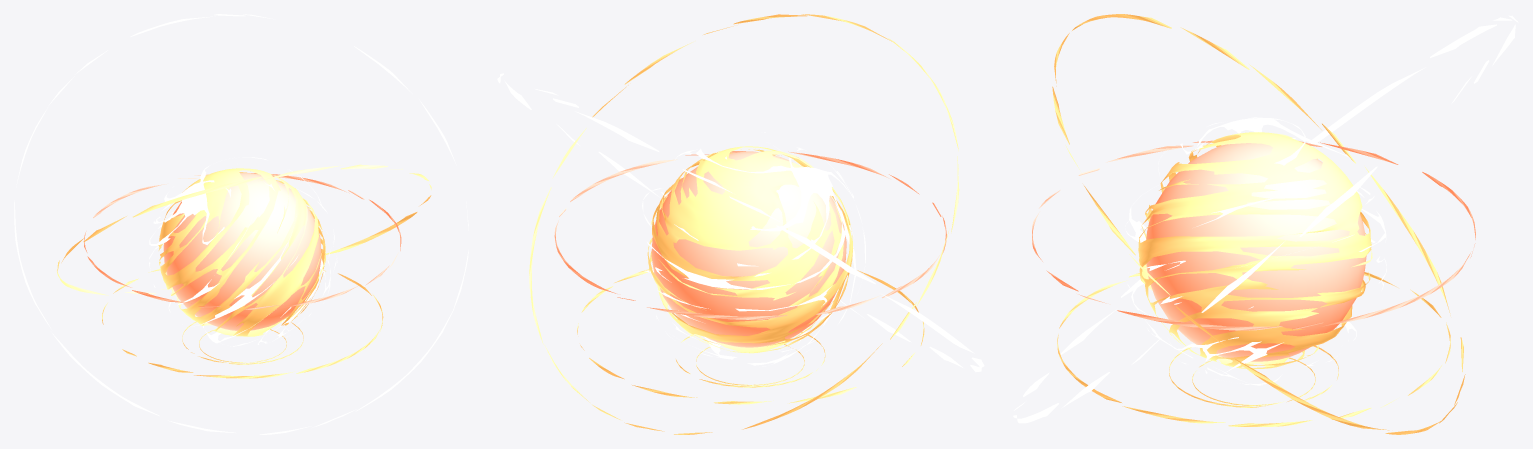
Rendered from projectile.glb.
3 renders of one model, left to right at view 1: azimuth 30°, elevation 25°; view 2: azimuth 150°, elevation 25°; view 3: azimuth 270°, elevation 25°, orthographic. The views are drawn at different scales.
Visible parts, largest first — view 1: Sphere.001_3, Sphere.002_4, Sphere_2, Circle.004_9, Circle_5, Circle.001_6, Circle.002_7; view 2: Sphere.002_4, Sphere.001_3, Sphere_2, Circle.004_9, Circle_5, Circle.001_6, Circle.002_7; view 3: Sphere.001_3, Sphere.002_4, Circle_5, Circle.004_9, Sphere_2, Circle.001_6, Circle.002_7.
Part boxes in pixels (x1,y1,x2,y2): Sphere.001_3: [163, 172, 321, 330]; Sphere.002_4: [158, 168, 325, 336]; Sphere_2: [149, 157, 337, 346]; Circle.004_9: [14, 14, 468, 434]; Circle_5: [57, 164, 431, 295]; Circle.001_6: [84, 173, 401, 309]; Circle.002_7: [102, 268, 383, 378]; Sphere.002_4: [647, 146, 853, 353]; Sphere.001_3: [651, 151, 846, 347]; Sphere_2: [642, 132, 865, 366]; Circle.004_9: [497, 73, 984, 372]; Circle_5: [529, 14, 959, 434]; Circle.001_6: [554, 151, 946, 319]; Circle.002_7: [577, 268, 924, 404]; Sphere.001_3: [1146, 143, 1366, 361]; Sphere.002_4: [1138, 132, 1372, 369]; Circle_5: [1052, 14, 1465, 434]; Circle.004_9: [1013, 15, 1518, 423]; Sphere_2: [1125, 117, 1386, 385]; Circle.001_6: [1032, 140, 1475, 330]; Circle.002_7: [1057, 272, 1450, 426].
Bounding box in the file's own units: 5.46 × 3.78 × 4.43.
